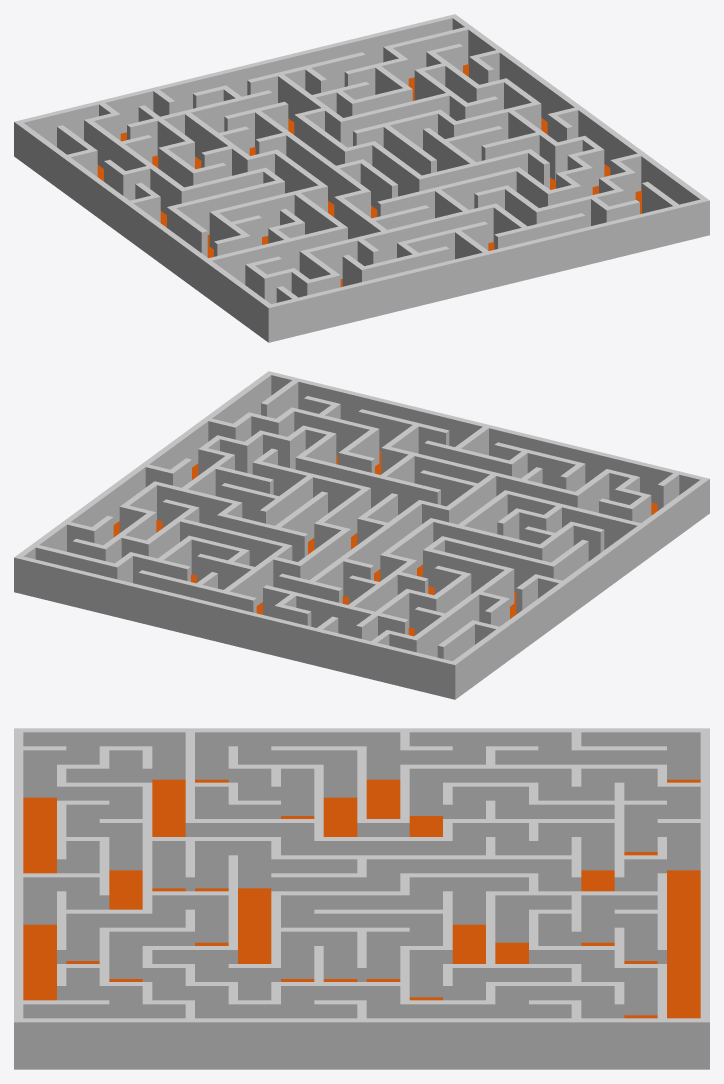
Rendered from Level50Graund.FBX.
The picture shows the model from 3 angles, top to bottom: view 1: azimuth 30°, elevation 25°; view 2: azimuth 150°, elevation 25°; view 3: azimuth 270°, elevation 25°; orthographic projection. The views are drawn at different scales.
Visible parts, largest first — view 1: pPlane2; view 2: pPlane2; view 3: pPlane2.
Boxes of the visible parts, bbox=[...] form: pPlane2: bbox=[14, 14, 709, 342]; pPlane2: bbox=[14, 371, 709, 699]; pPlane2: bbox=[14, 728, 709, 1069].
Bounding box in the file's own units: 373 × 28 × 373.
